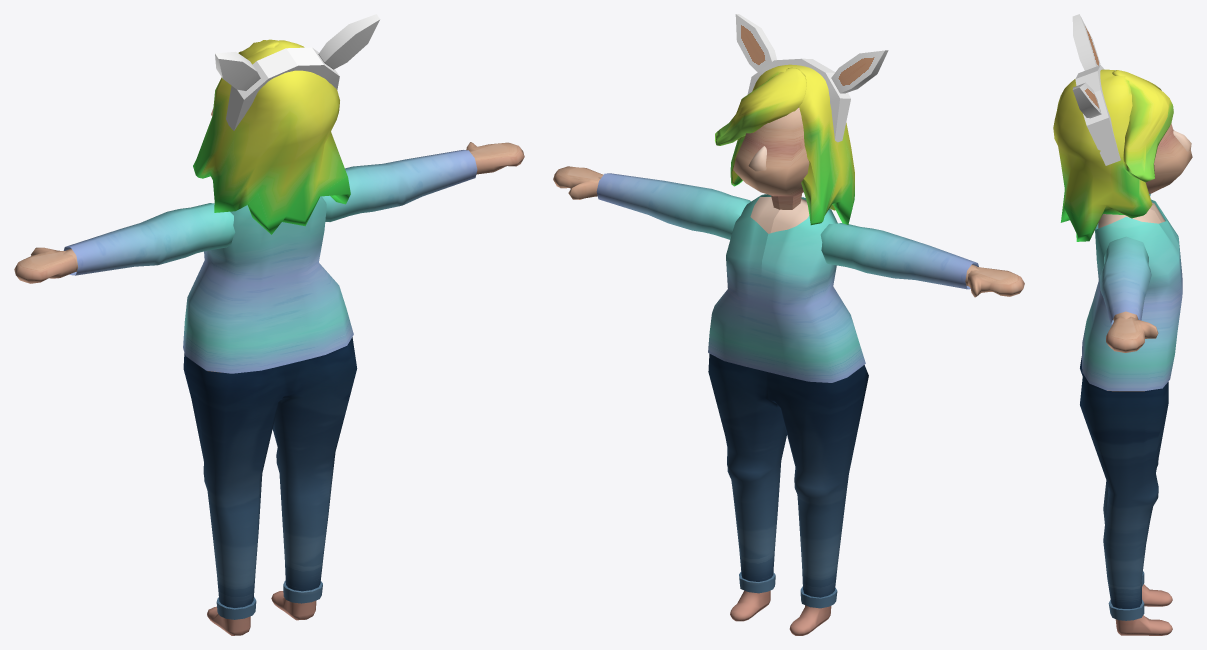
Rendered from Main_character.fbx.
3 views of the same model, side by side, from view 1: azimuth 30°, elevation 25°; view 2: azimuth 150°, elevation 25°; view 3: azimuth 270°, elevation 25° (orthographic). The views are drawn at different scales.
Parts seen in each view (by area): view 1: polySurface2; view 2: polySurface2; view 3: polySurface2.
Boxes of the visible parts, x1,y1,x2,y2 form: polySurface2: (14, 14, 524, 635); polySurface2: (553, 14, 1024, 635); polySurface2: (1053, 14, 1192, 635).
Bounding box in the file's own units: 120 × 138 × 30.72.
